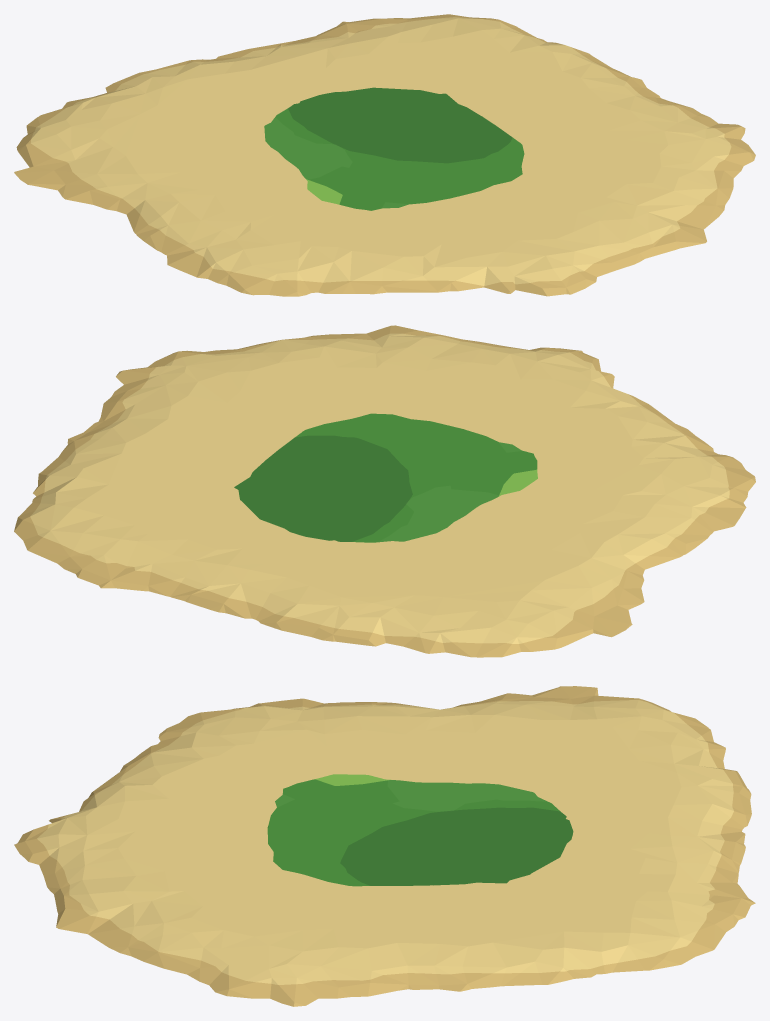
File: Isl-islet5-Ground.fbx
3 renders of one model, top to bottom at view 1: azimuth 30°, elevation 25°; view 2: azimuth 150°, elevation 25°; view 3: azimuth 270°, elevation 25°, orthographic. The views are drawn at different scales.
Visible parts, largest first — view 1: Isl-islet5-Ground-c11, Isl-islet5-Ground-c21, Isl-islet5-Ground-c12, Isl-islet5-Ground-c22; view 2: Isl-islet5-Ground-c12, Isl-islet5-Ground-c11, Isl-islet5-Ground-c21, Isl-islet5-Ground-c22; view 3: Isl-islet5-Ground-c21, Isl-islet5-Ground-c22, Isl-islet5-Ground-c11, Isl-islet5-Ground-c12.
Part boxes in pixels (bbox=[...]): Isl-islet5-Ground-c11: bbox=[126, 144, 570, 296]; Isl-islet5-Ground-c21: bbox=[386, 86, 755, 294]; Isl-islet5-Ground-c12: bbox=[14, 49, 385, 214]; Isl-islet5-Ground-c22: bbox=[248, 14, 646, 144]; Isl-islet5-Ground-c12: bbox=[223, 483, 647, 657]; Isl-islet5-Ground-c11: bbox=[379, 351, 755, 569]; Isl-islet5-Ground-c21: bbox=[84, 325, 581, 483]; Isl-islet5-Ground-c22: bbox=[14, 427, 378, 613]; Isl-islet5-Ground-c21: bbox=[14, 828, 440, 1006]; Isl-islet5-Ground-c22: bbox=[424, 827, 755, 991]; Isl-islet5-Ground-c11: bbox=[16, 698, 444, 843]; Isl-islet5-Ground-c12: bbox=[424, 686, 751, 843].
Bounding box in the file's own units: 22.27 × 0.4703 × 21.77.
